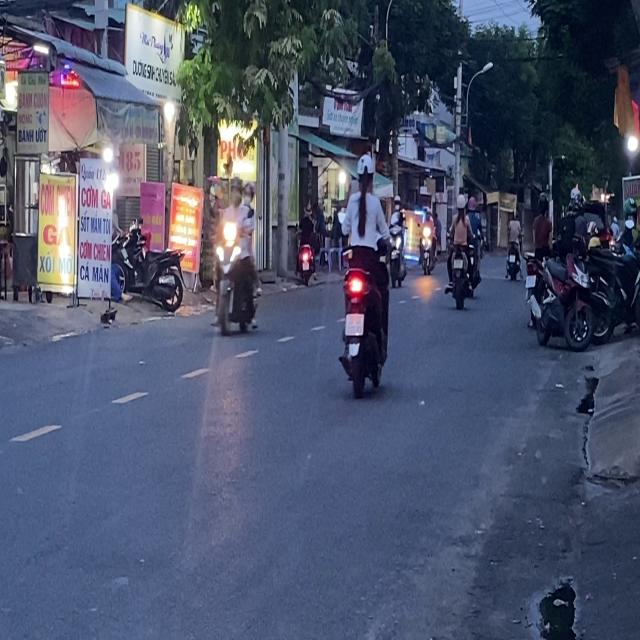helmet: (355, 153, 374, 190), (229, 174, 243, 204)
licenseplate: (337, 152, 392, 396), (212, 170, 264, 338)
nohelmet: (345, 313, 363, 334)
